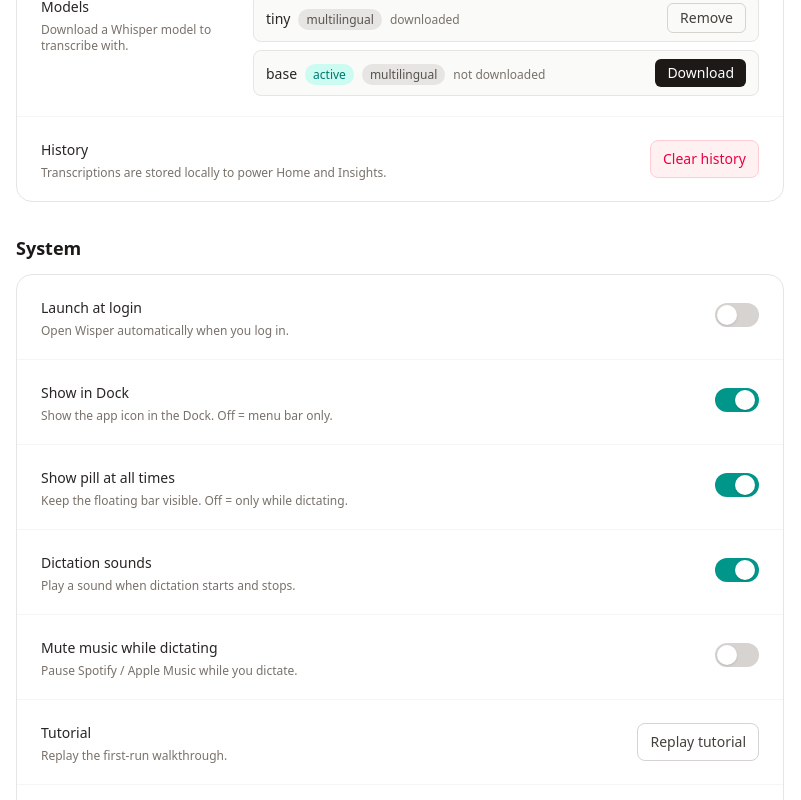
Test: Settings › shows Saved indicator after saving config
The width and height of the screenshot is (801, 800).
(page scrolled)
Expected: the text "Show in Dock" is shown, [41, 383, 129, 402]
What coordinates should you click on to do the following:
click the switch in the row of "Show in Dock"
I would click on:
 (737, 400)
Its box is [715, 388, 759, 412].
(page scrolled)
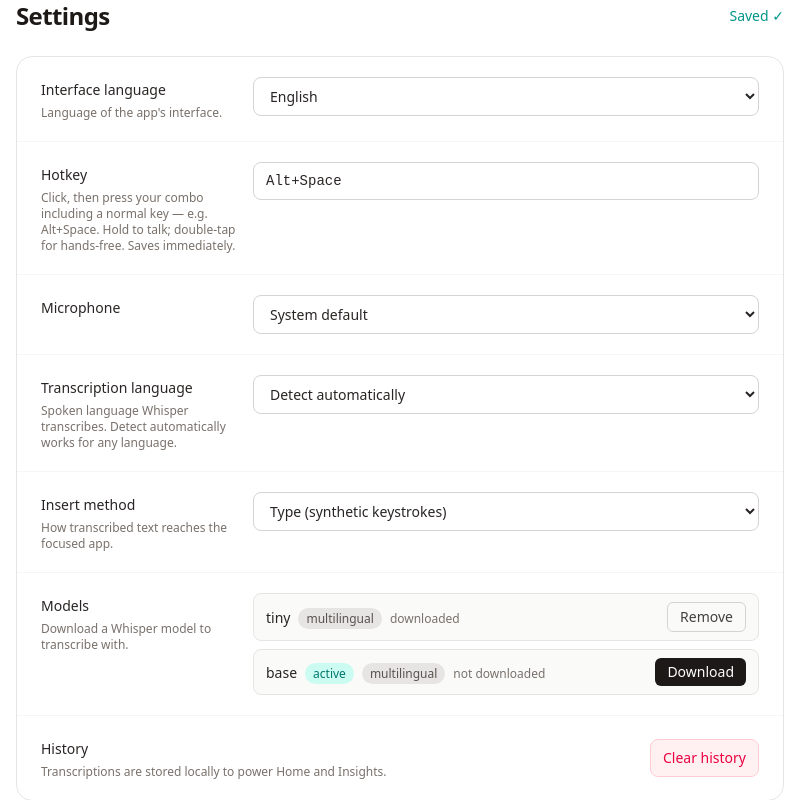
Result: the text "Saved ✓" is shown at [730, 6, 784, 26]
